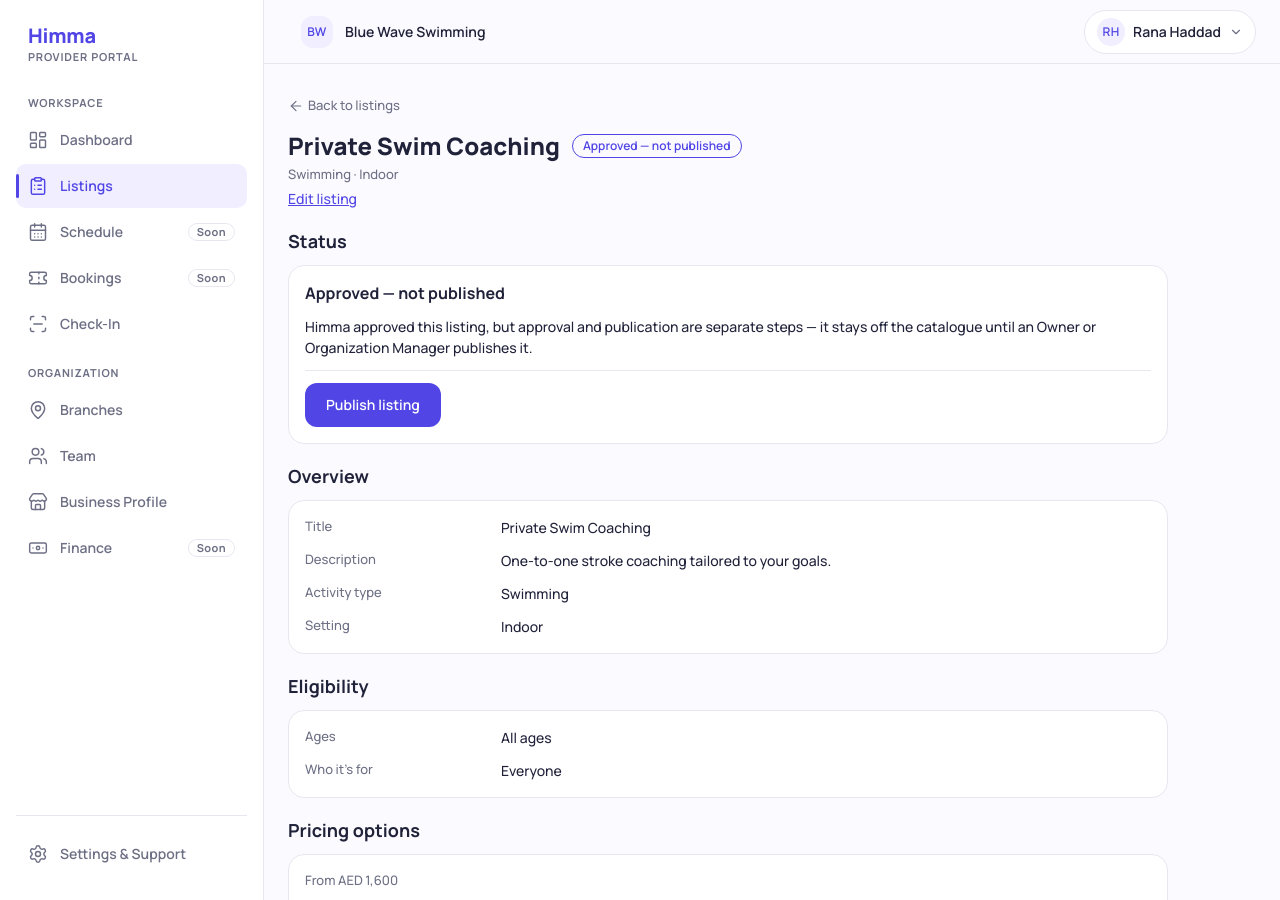
Scenario: lifecycle + dashboard accessibility (jest-axe, W2-9) › stale-conflict announcement after a lifecycle command
What coordinates should you click on to do the following:
click the button "Publish listing"
I would click on:
 (373, 404)
Its box is [305,382,441,426].
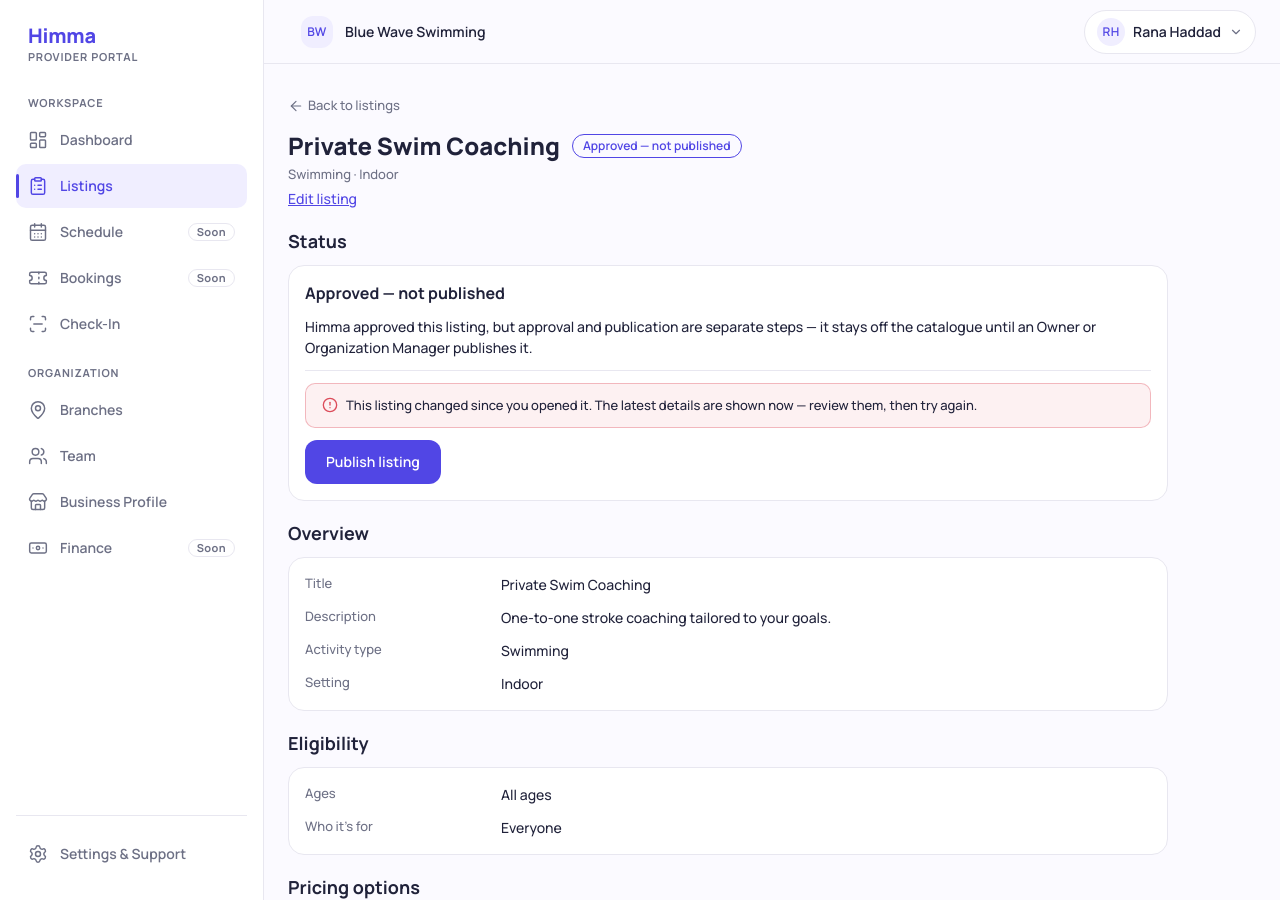
Expected: the text "This listing changed since you opened it" is shown, [346,396,977,414]
